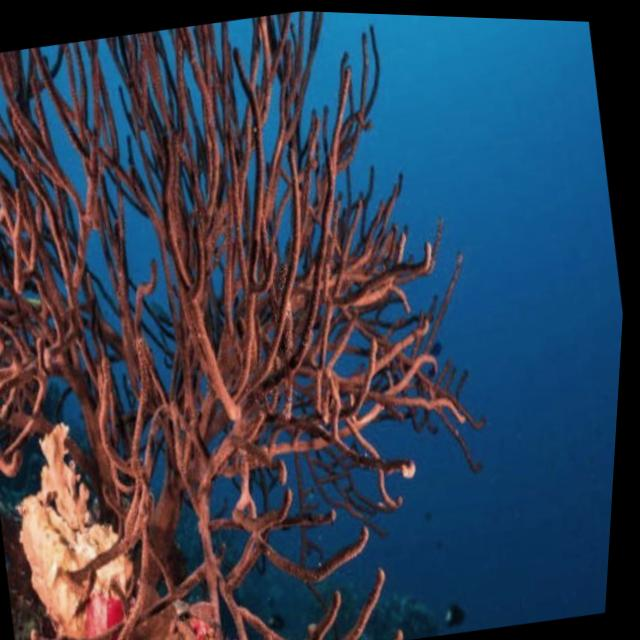Healthy Coral: (0, 38, 504, 640)
